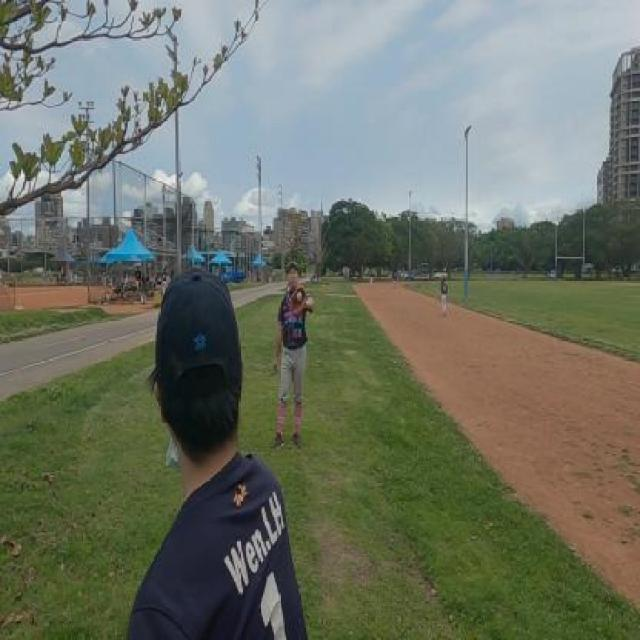baseball: (296, 292, 302, 302)
